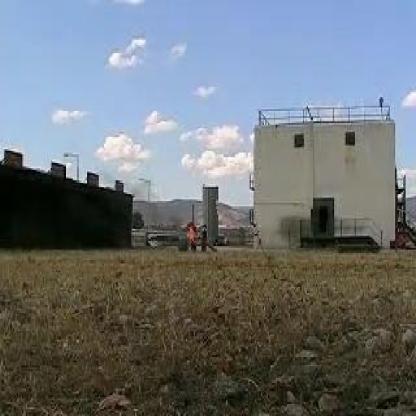foggia-v2-map80-epoch100 - v1 4323: (184, 226, 200, 244)
